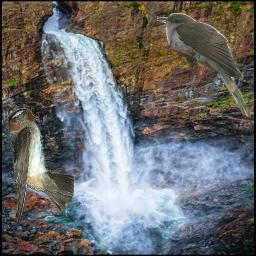Cuckoo: (157, 13, 251, 120)
Swallow: (7, 108, 74, 229)
